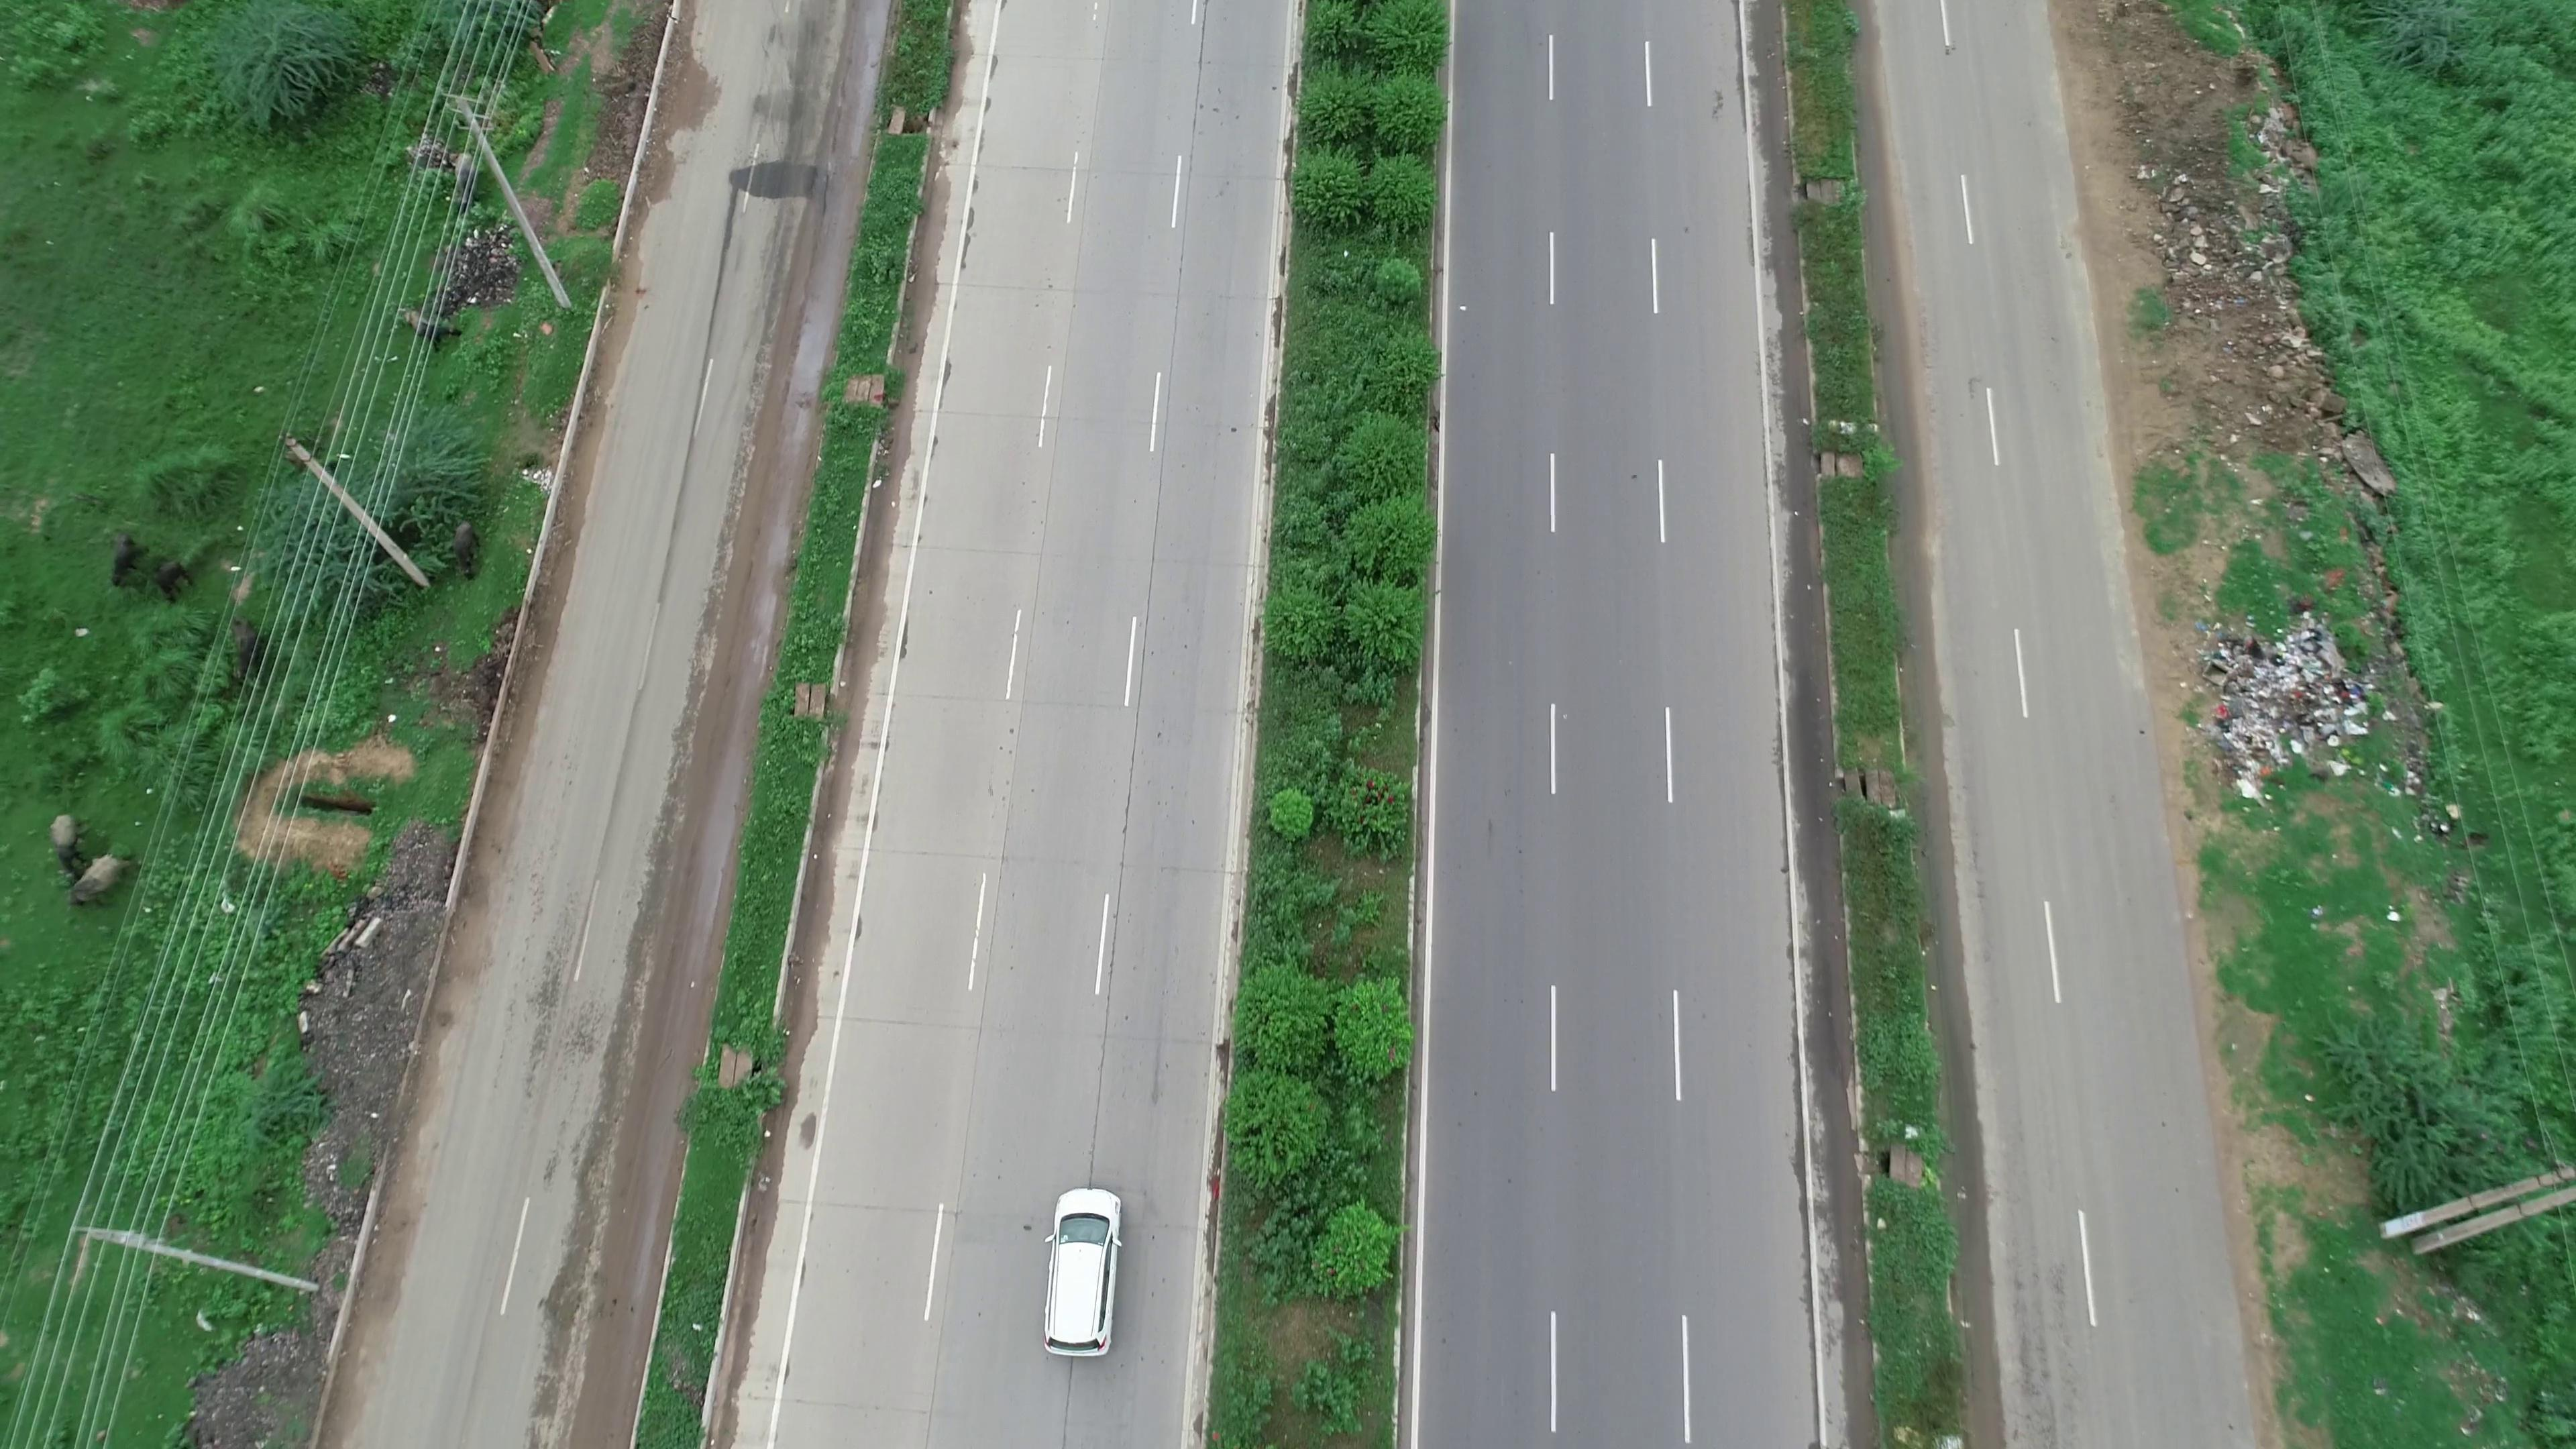Road_side_garbage: (2190, 610, 2376, 805)
